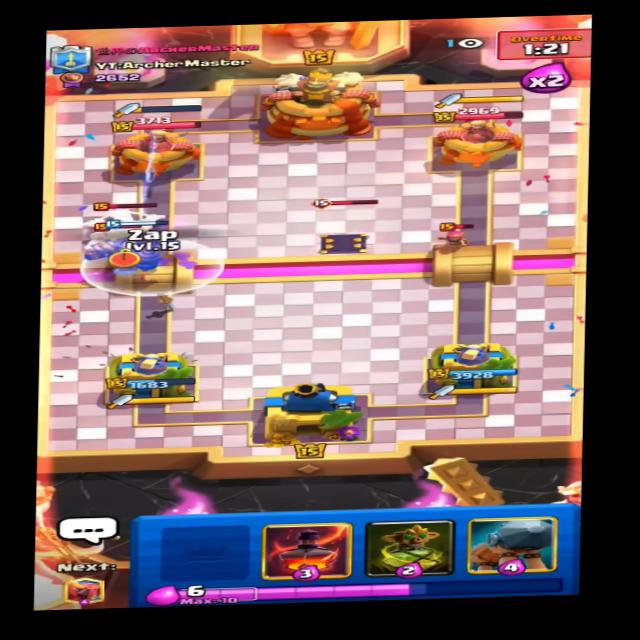archer: (435, 224, 469, 249)
evo-tesla-closed: (301, 198, 385, 259)
x-bow: (80, 198, 164, 247)
